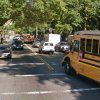Bus: (65, 26, 100, 84)
